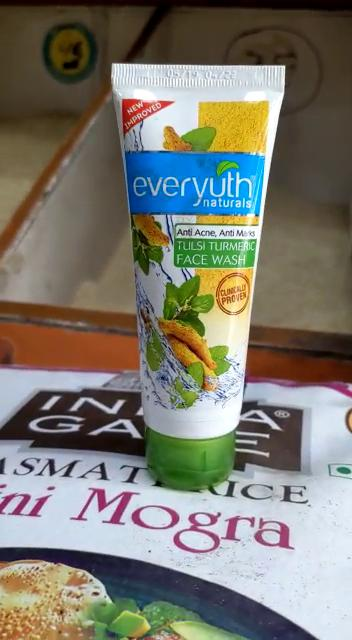EY AAAM TULSI TURMERIC FACEWASH50G: (112, 67, 283, 485)
